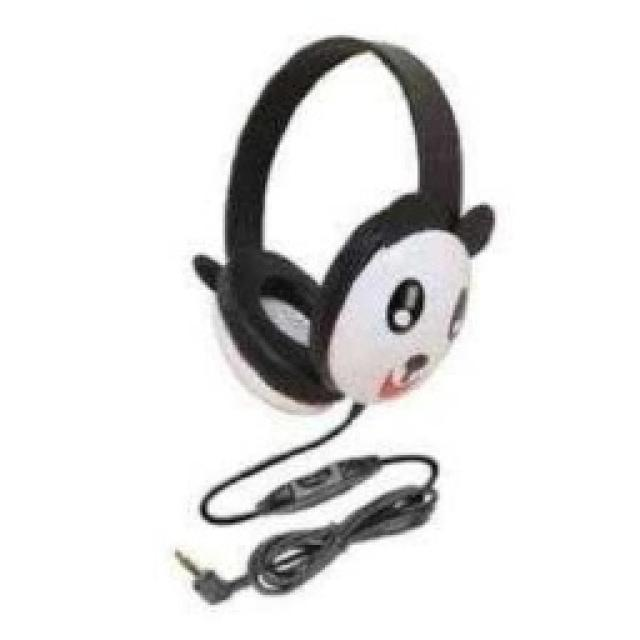headphones: (192, 33, 492, 415)
